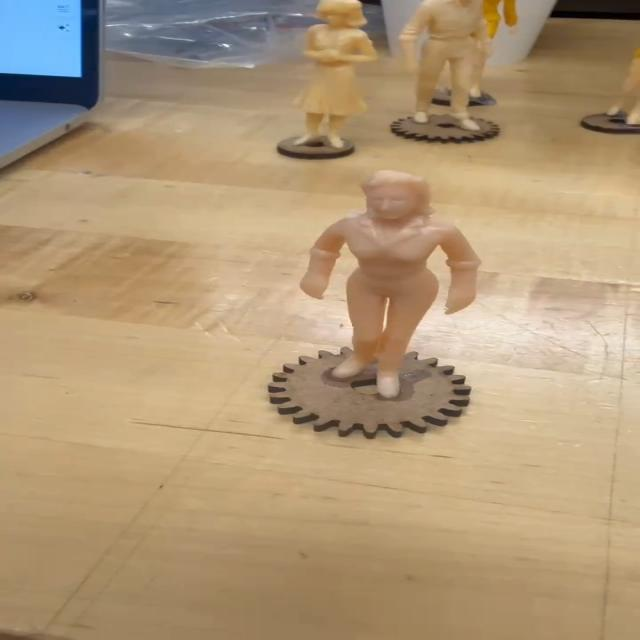Unauthorized: (215, 157, 522, 534)
